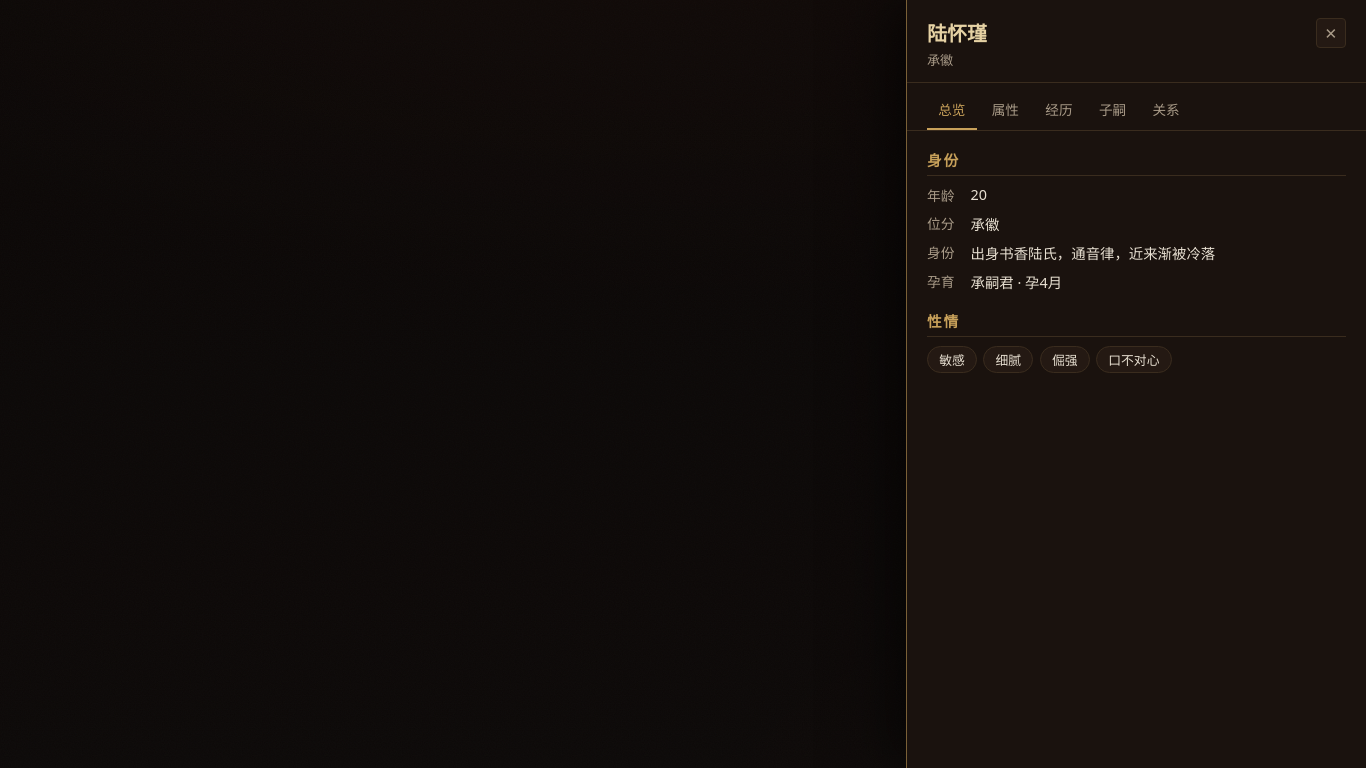
Test case: consort detail surfaces › 11 & 12. CharacterProfileDrawer shows the exact month, independent of health
Expected: the text "承嗣君 · 孕4月" is shown, [970, 273, 1062, 292]
What coordinates should you click on to do the following:
click the button "属性"
I would click on:
 (1005, 112)
Its box is [981, 93, 1030, 130].
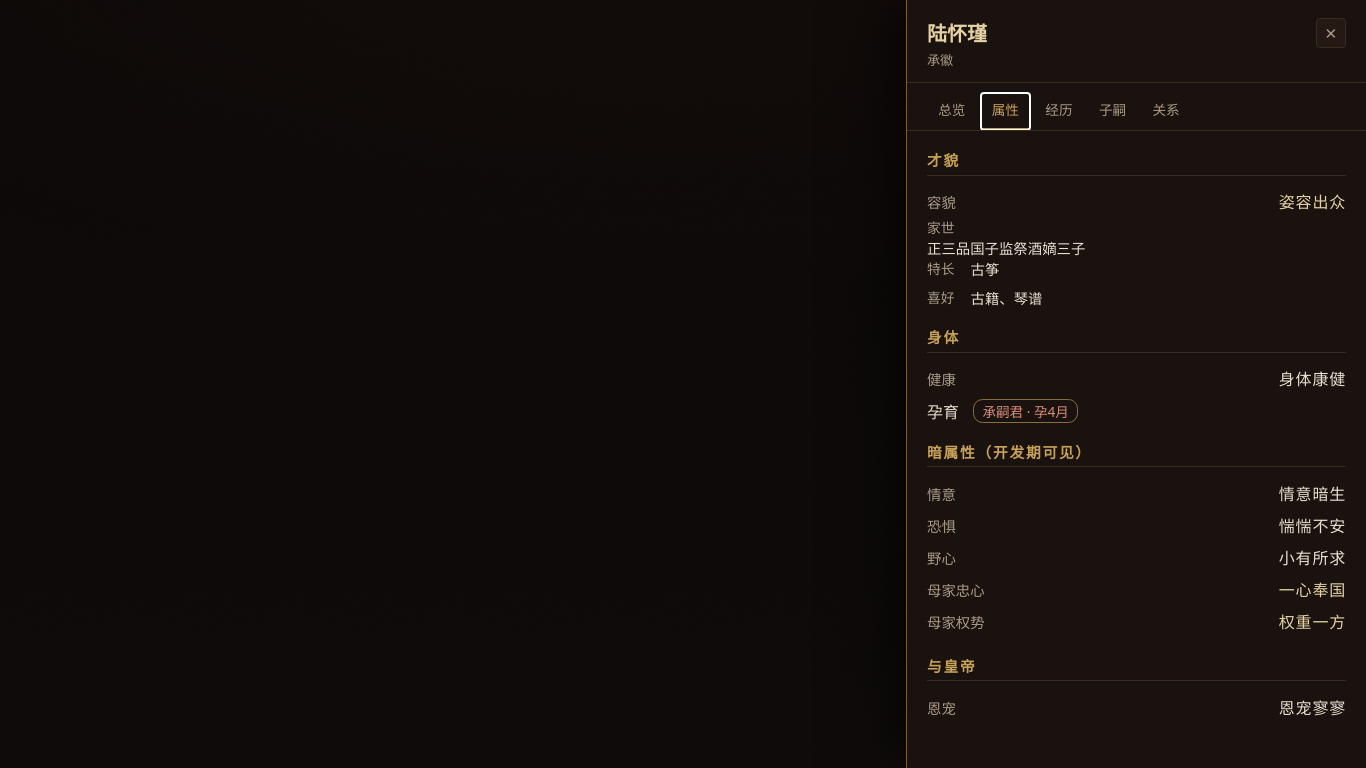
Expected: the text "孕育" is shown, [927, 399, 959, 423]
Result: the text "健康" is shown at [927, 368, 956, 389]
